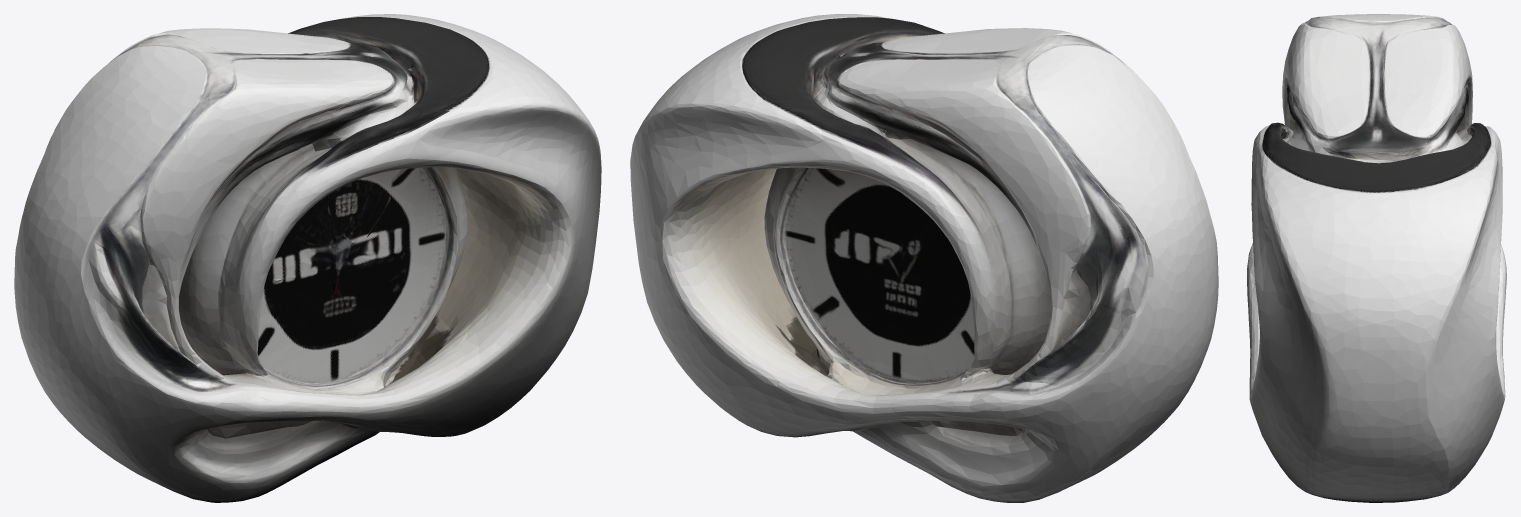
Rendered from porcelain-clock-futuristic.jpeg.glb.
3 views of the same model, side by side, from view 1: azimuth 30°, elevation 25°; view 2: azimuth 150°, elevation 25°; view 3: azimuth 270°, elevation 25° (orthographic). The views are drawn at different scales.
Visible parts, largest first — view 1: world; view 2: world; view 3: world.
Part boxes in pixels (left/top/right/bottom): world: left=14, top=14, right=601, bottom=502; world: left=630, top=14, right=1218, bottom=502; world: left=1247, top=14, right=1506, bottom=502.
Size of the model in its own units: 0.9995 by 0.742 by 0.4636.
Materials: 1 (1 with a texture image).
